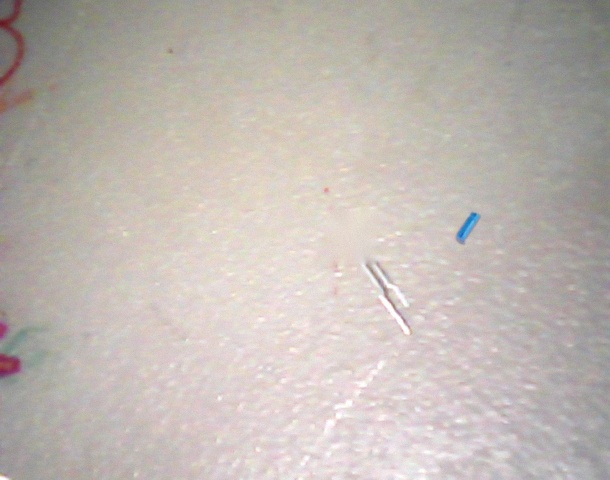capacitor: (456, 212, 480, 244)
